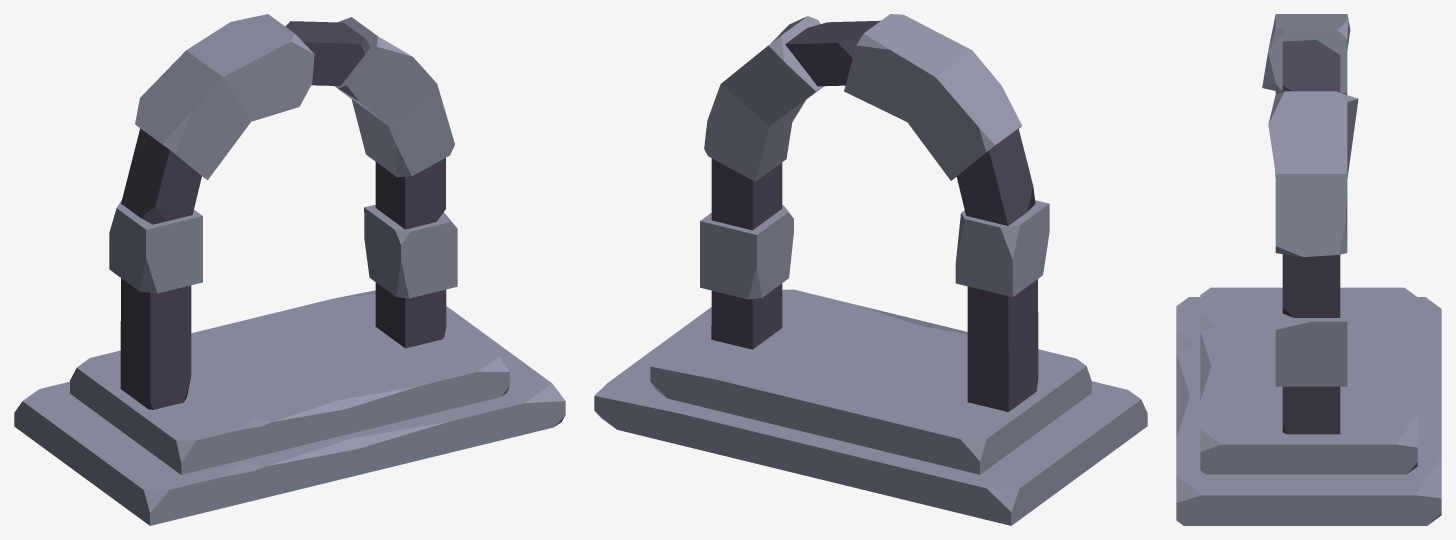
Rendered from portal.fbx.
The picture shows the model from 3 angles, left to right: view 1: azimuth 30°, elevation 25°; view 2: azimuth 150°, elevation 25°; view 3: azimuth 270°, elevation 25°; orthographic projection. The views are drawn at different scales.
Visible parts, largest first — view 1: Cube, Plane.001, Cube.001, Plane; view 2: Cube, Plane.001, Cube.001, Plane; view 3: Cube, Cube.001, Plane.001, Plane.
Part boxes in pixels (box(x1,y1,x2,y2)): Cube: box(70, 290, 509, 474); Plane.001: box(109, 14, 457, 298); Cube.001: box(14, 306, 565, 525); Plane: box(120, 21, 446, 409); Cube: box(650, 289, 1091, 474); Plane.001: box(700, 14, 1049, 299); Cube.001: box(594, 307, 1147, 525); Plane: box(711, 20, 1038, 411); Cube: box(1200, 287, 1417, 474); Cube.001: box(1176, 297, 1441, 525); Plane.001: box(1262, 14, 1358, 386); Plane: box(1282, 40, 1340, 434).
Size of the model in its own units: 388 by 359 by 220.
